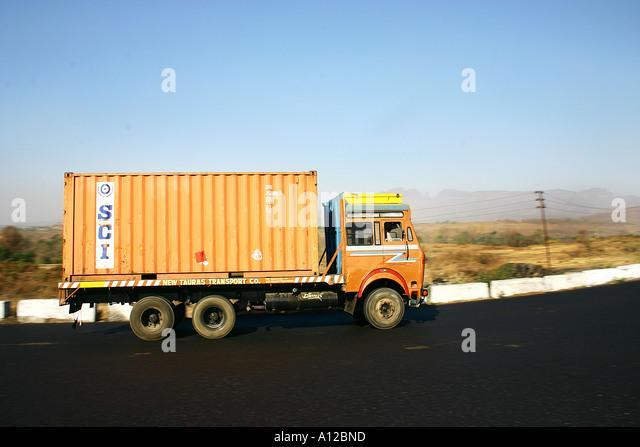truck: (43, 148, 449, 342)
